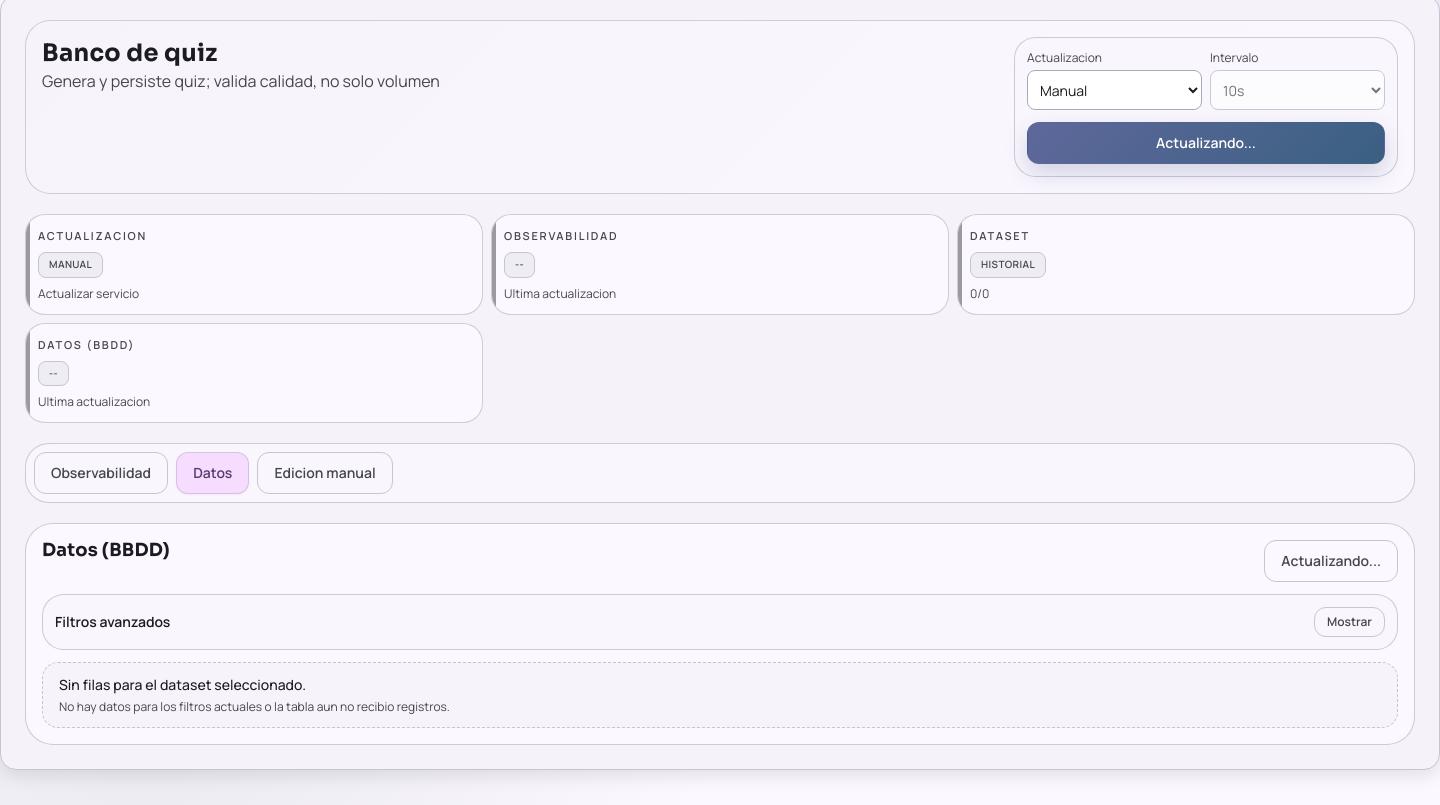
ServiceConsolePanel integration › renders content insights and recommendations for game history datasets
Click the tab "Datos". click: (213, 473)
box: x1=176 y1=452 x2=249 y2=494
(page scrolled)
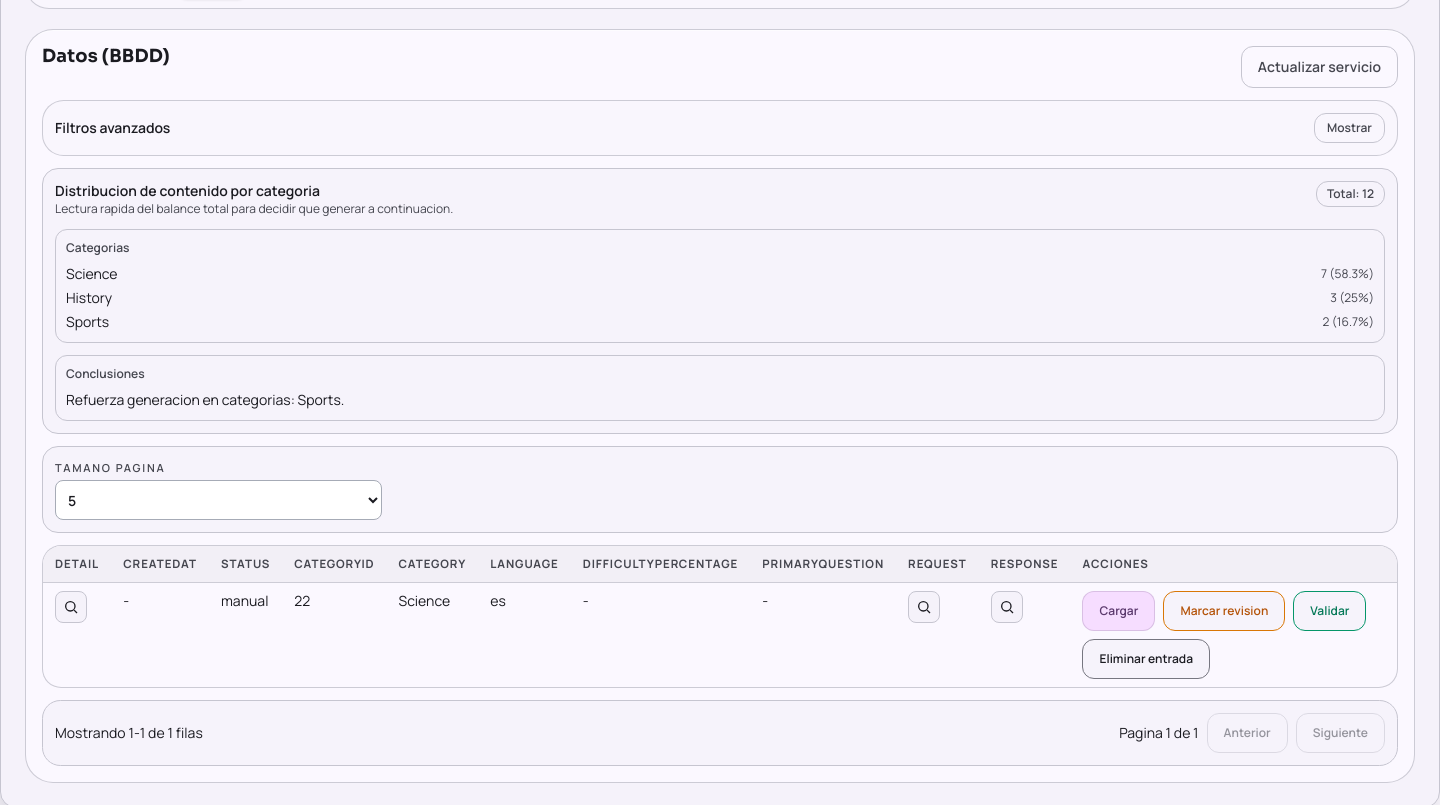
Expected: the text "Distribucion de contenido por categoria" is shown, x1=55 y1=181 x2=320 y2=200
Expected: the text "Total: 12" is shown, x1=1316 y1=181 x2=1385 y2=207
Expected: the text "Categorias" is shown, x1=66 y1=239 x2=130 y2=256
